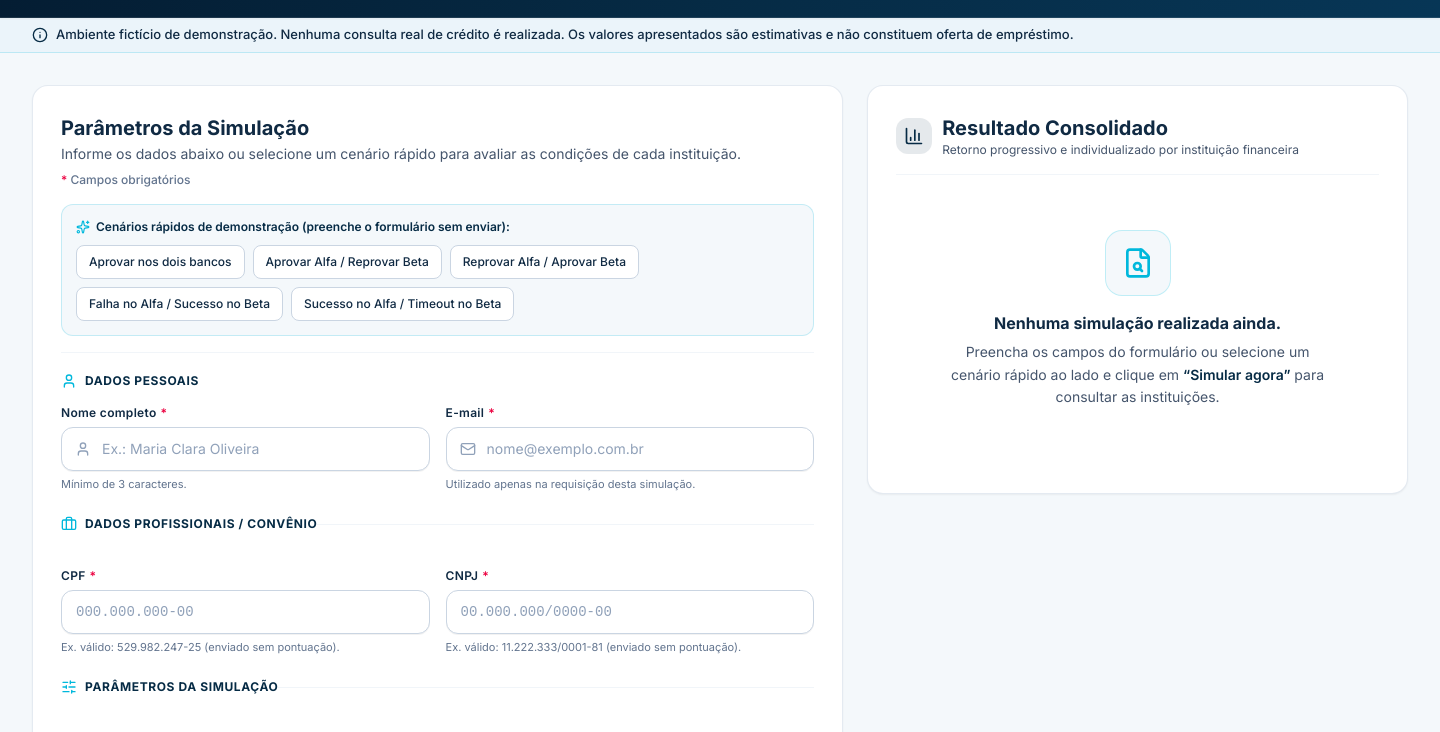
Test: SimulatorPage — Redesign UI/UX OctaFin e Resultados Progressivos via SSE › preenche os campos nos 5 cenários rápidos sem enviar automaticamente e permite limpar os campos
The width and height of the screenshot is (1440, 732).
Click the button "Aprovar nos dois bancos" at [160, 262], box x1=76 y1=245 x2=244 y2=279
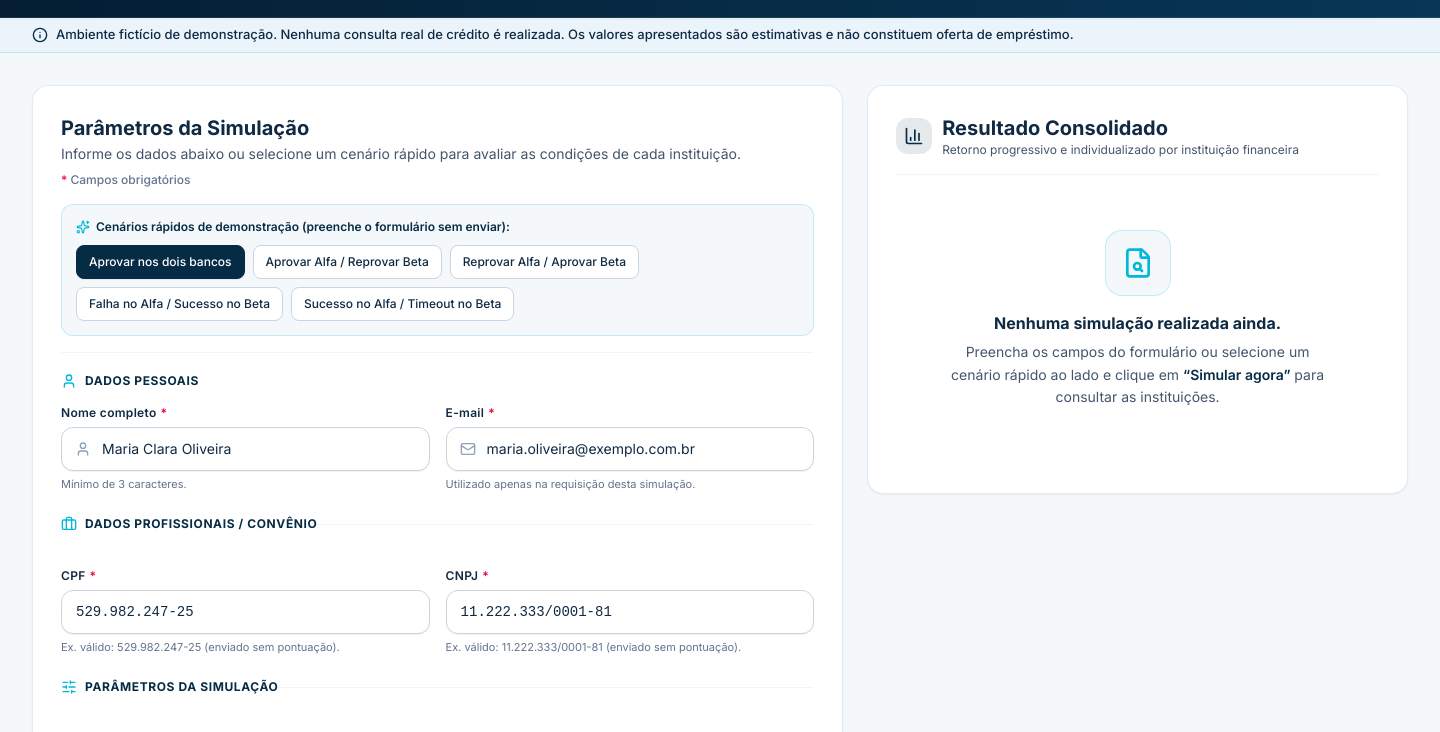
Now the field labelled "E-mail*" holds "maria.oliveira@exemplo.com.br", box x1=446 y1=427 x2=814 y2=471
Click the button "Aprovar Alfa / Reprovar Beta" at [347, 262], box x1=252 y1=245 x2=442 y2=279
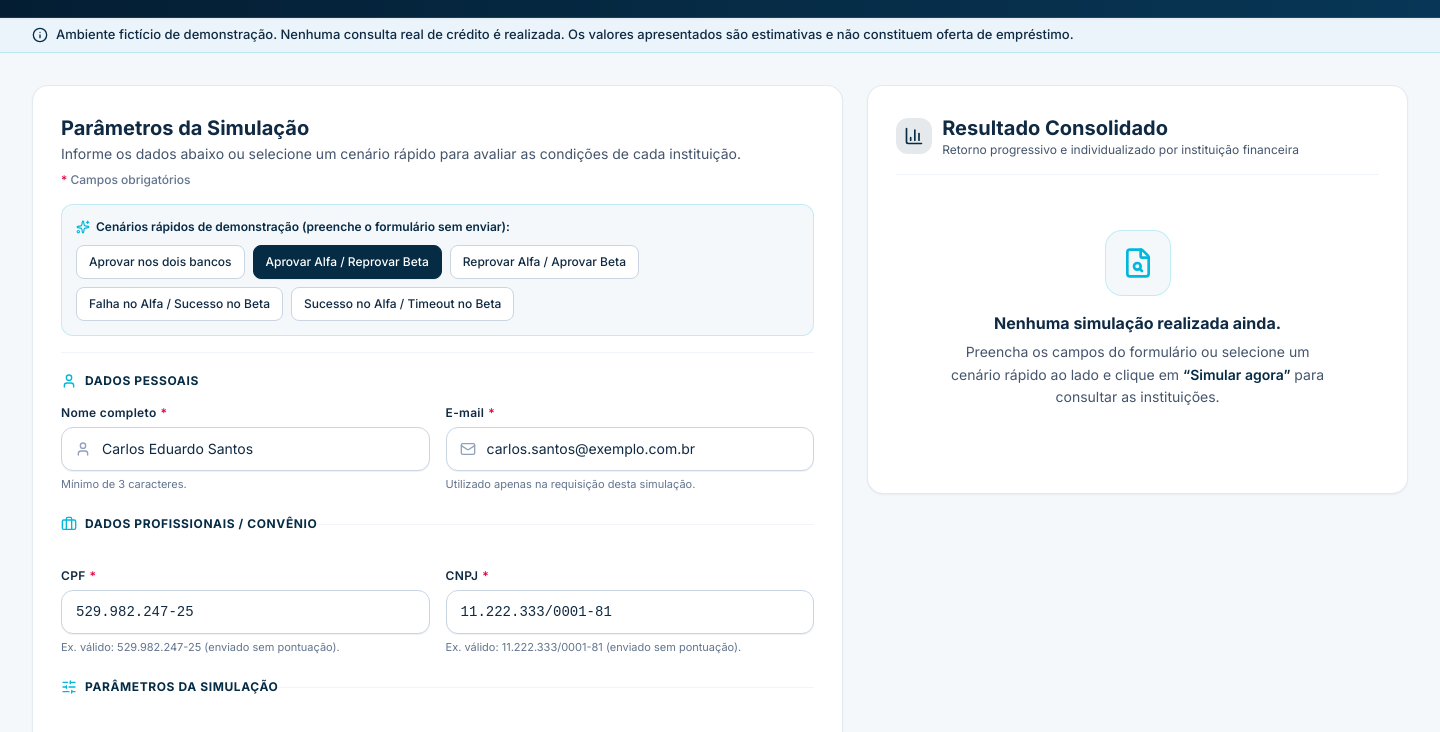
Now the field labelled "E-mail*" holds "carlos.santos@exemplo.com.br", box x1=446 y1=427 x2=814 y2=471
Click the button "Reprovar Alfa / Aprovar Beta" at [544, 262], box x1=450 y1=245 x2=639 y2=279
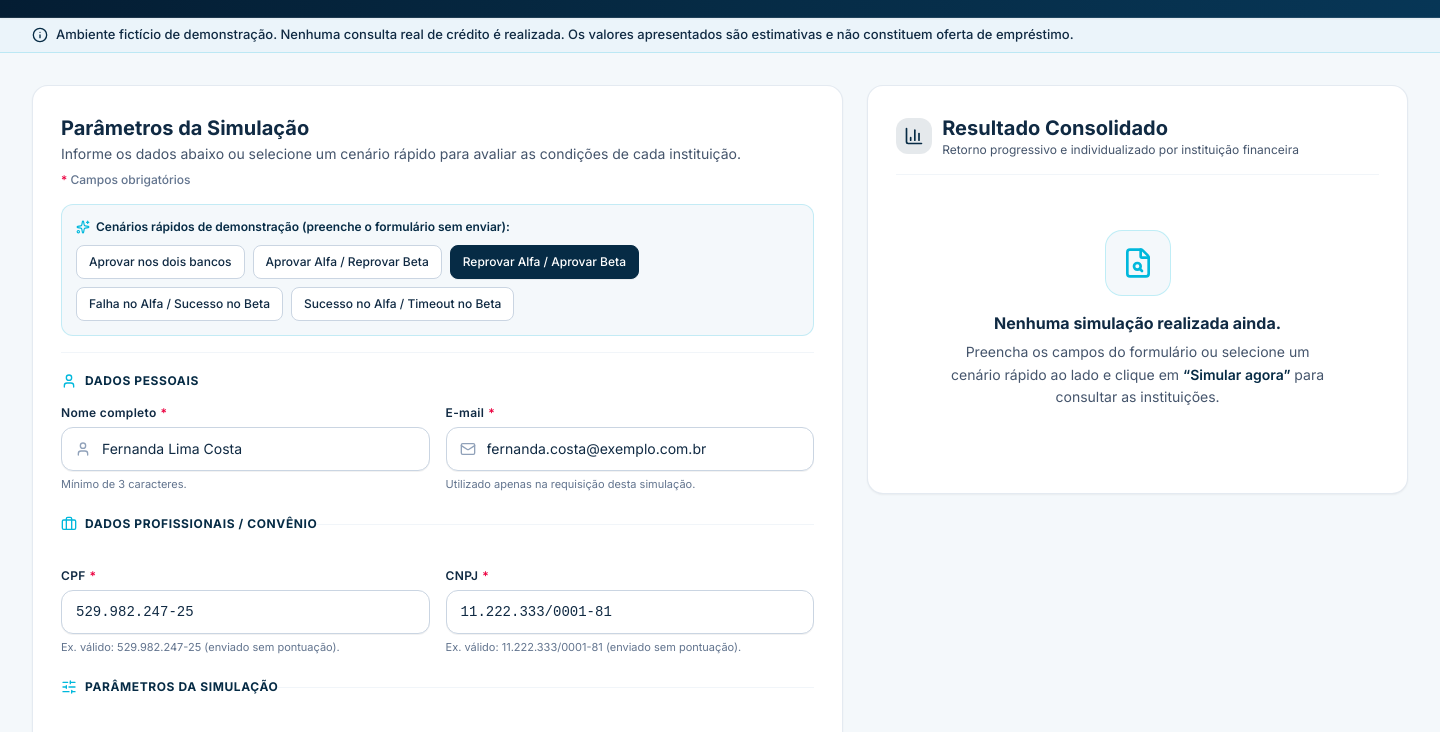
Now the field labelled "E-mail*" holds "fernanda.costa@exemplo.com.br", box x1=446 y1=427 x2=814 y2=471
Click the button "Falha no Alfa / Sucesso no Beta" at [180, 304], box x1=76 y1=287 x2=283 y2=321
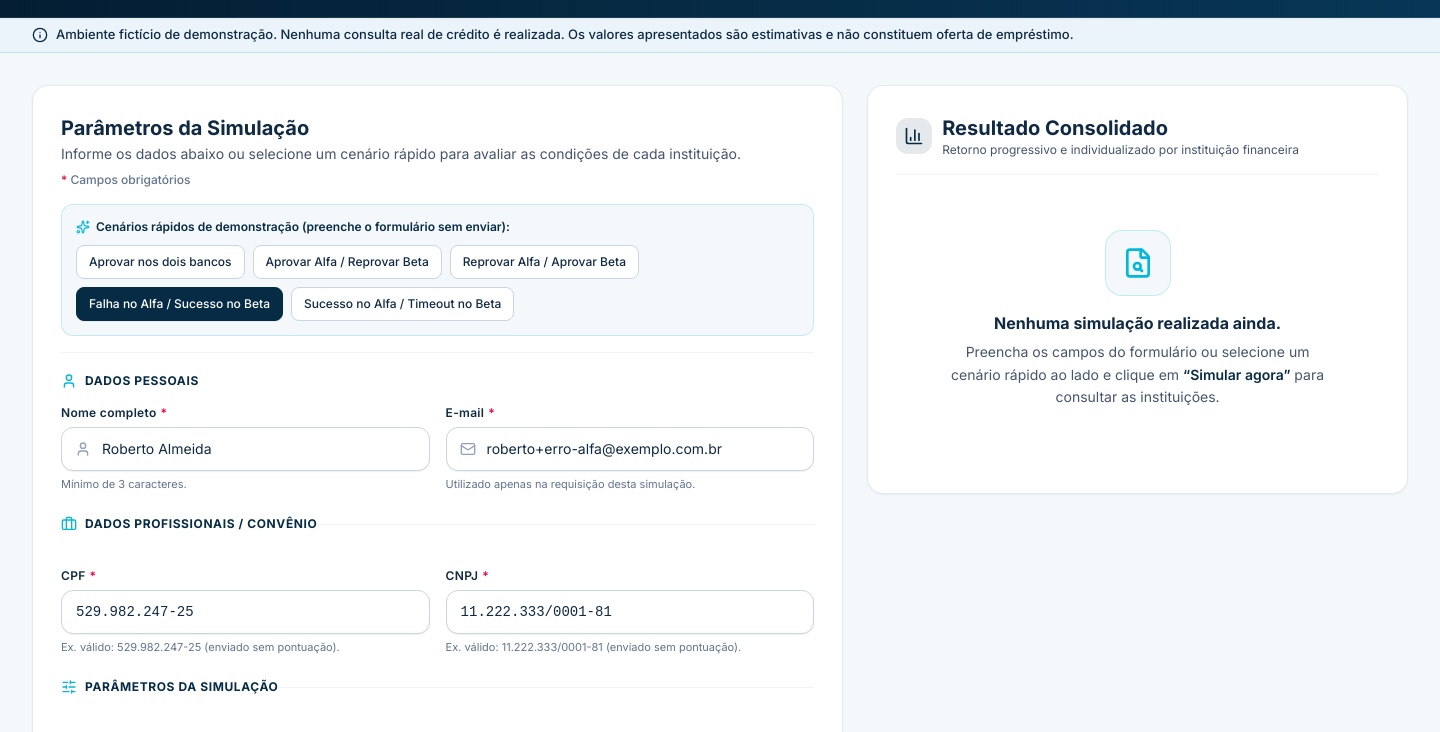
Now the field labelled "E-mail*" holds "roberto+erro-alfa@exemplo.com.br", box x1=446 y1=427 x2=814 y2=471
Click the button "Sucesso no Alfa / Timeout no Beta" at [403, 304], box x1=291 y1=287 x2=514 y2=321
(page scrolled)
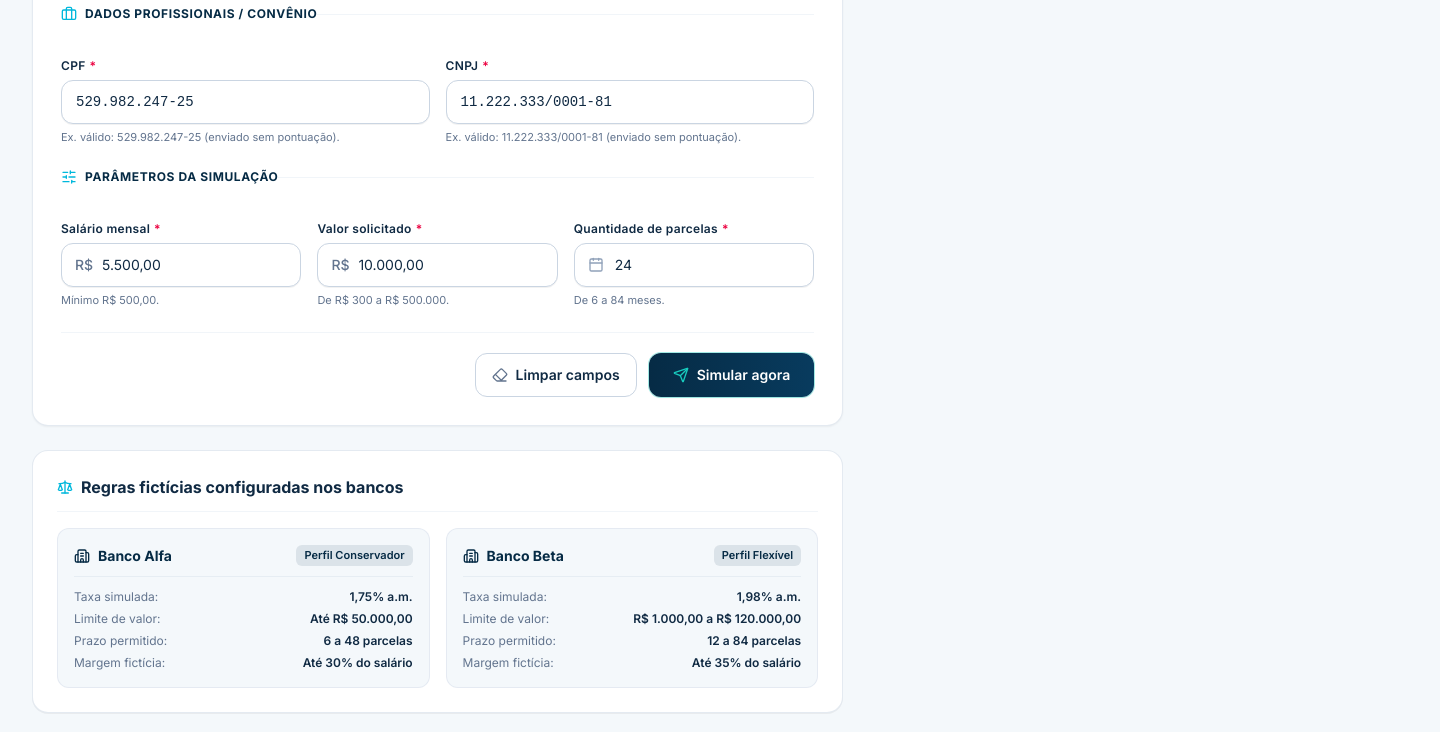
Click the button "Limpar campos" at [556, 375], box x1=475 y1=353 x2=637 y2=397
(page scrolled)
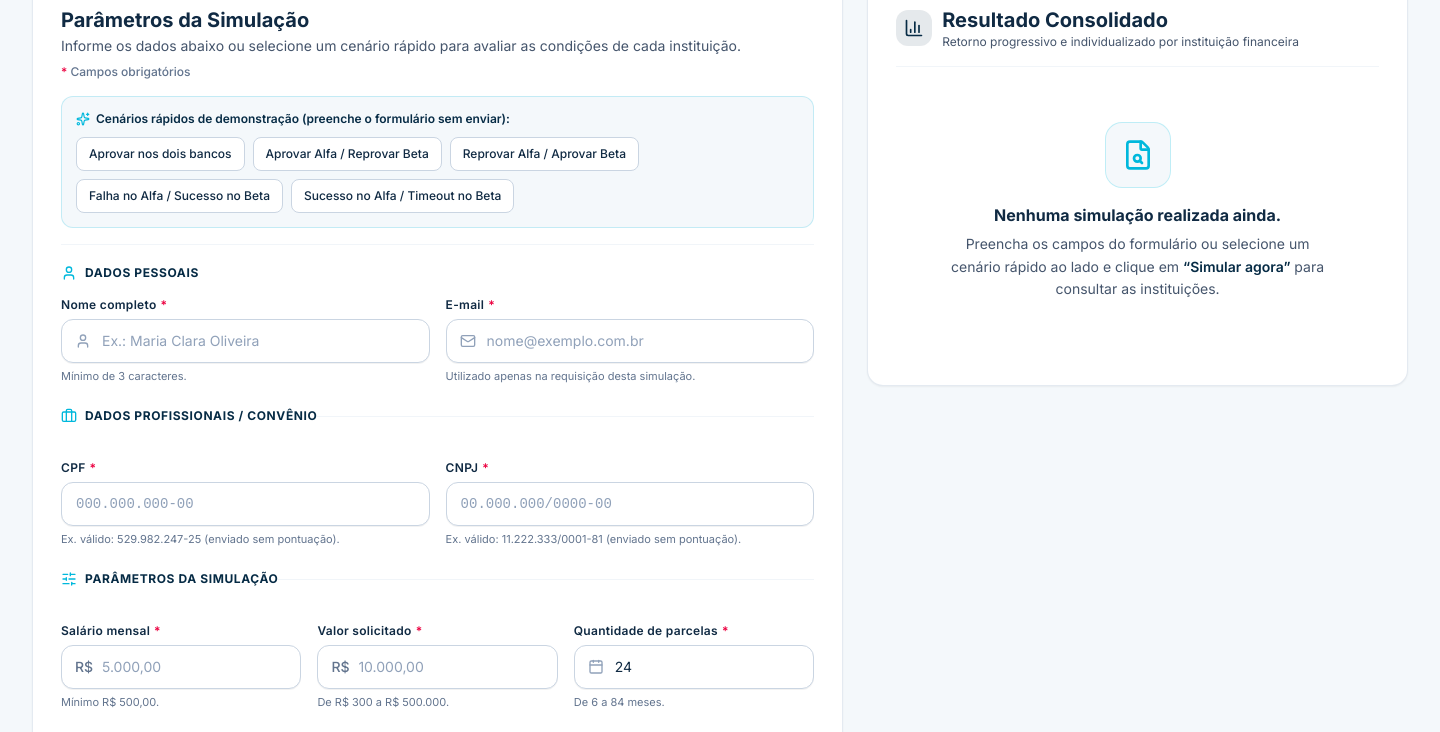
Now the field labelled "E-mail*" is empty, box x1=446 y1=319 x2=814 y2=363
